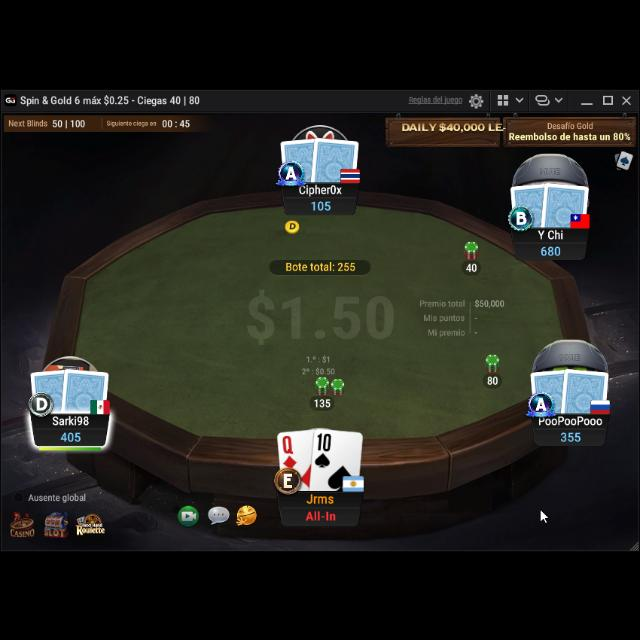Kd: (281, 432, 299, 466)
Qd: (279, 432, 297, 466)
Ts: (313, 429, 333, 467)
all_in_symbol: (304, 504, 338, 520)
bet_text: (314, 397, 332, 409), (465, 260, 479, 272), (486, 374, 499, 386)
card_back: (559, 363, 611, 417), (540, 177, 590, 229), (309, 133, 361, 183), (61, 364, 111, 414), (28, 364, 72, 414), (510, 178, 554, 228), (279, 134, 321, 182), (530, 366, 572, 412)
dealer: (284, 218, 300, 235)
pot_text: (284, 258, 356, 270)
stack_text: (59, 427, 82, 441), (310, 199, 332, 213), (560, 427, 582, 441), (540, 241, 562, 255)
